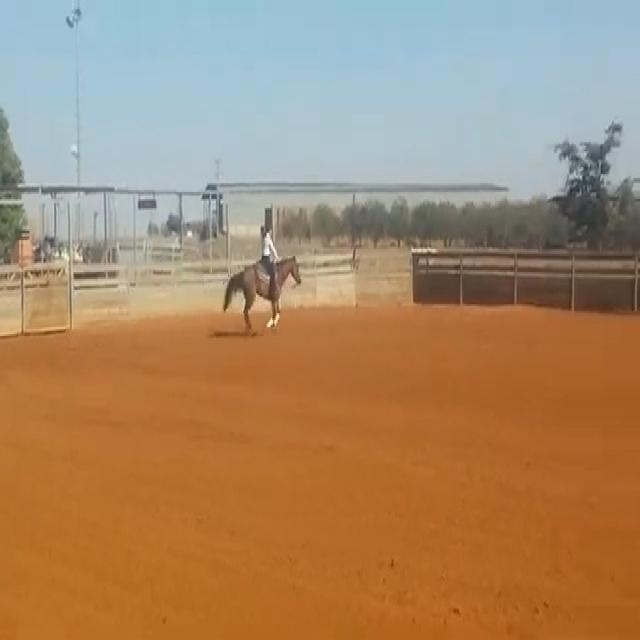horse: (221, 251, 302, 334)
